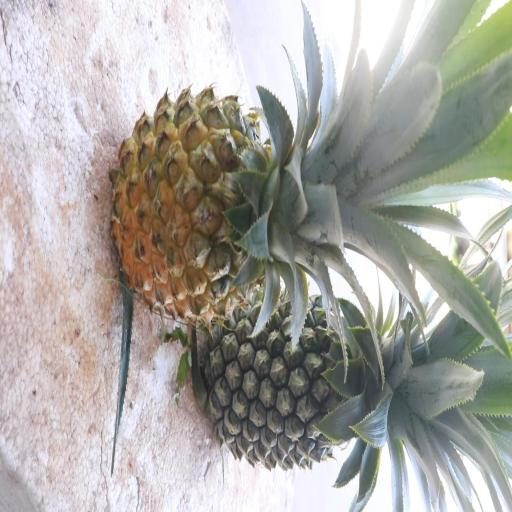Pineapple - v8 v1: (108, 80, 372, 326)
